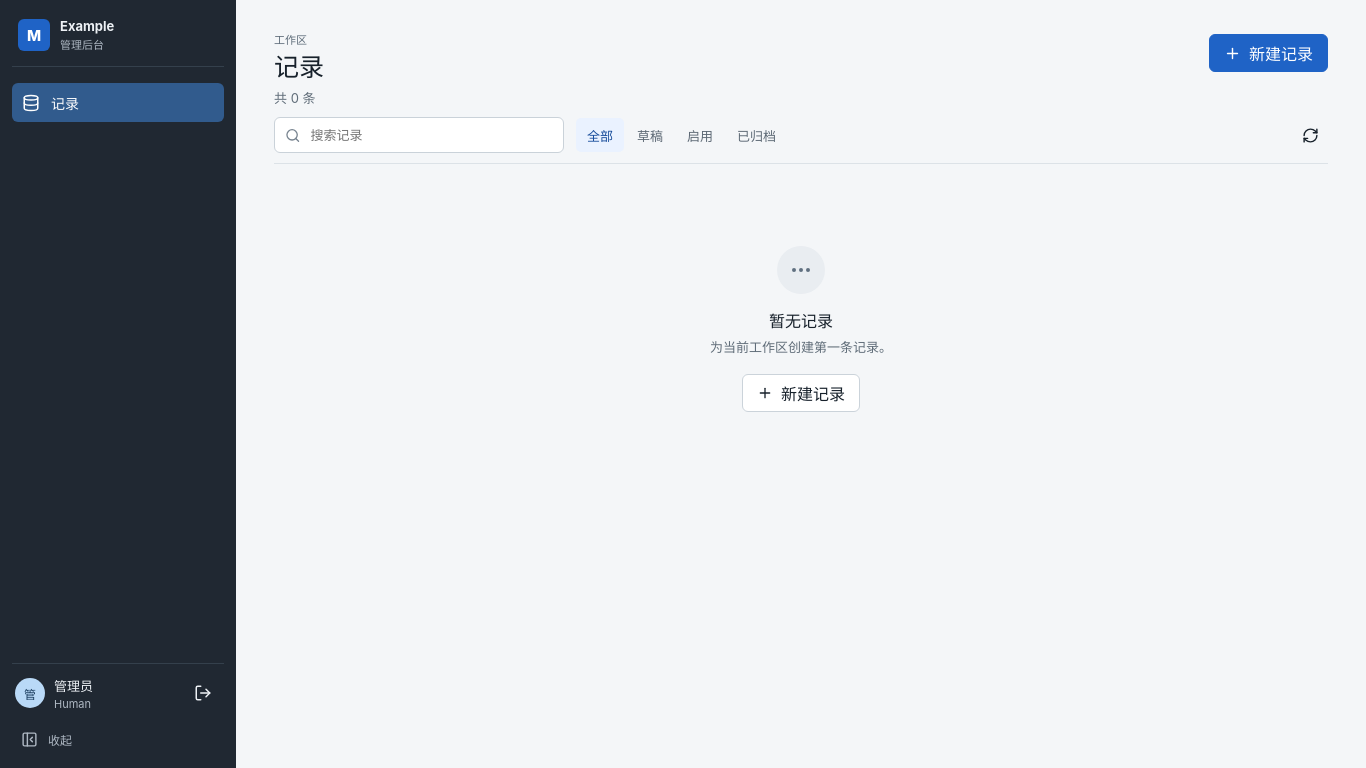
Test: Admin routes › keeps the authenticated workspace visible when server-side logout fails
The image size is (1366, 768).
Expected: the heading "记录" is shown, [274,52,324,84]
Click the button named "退出登录" at (203, 693), box [185,675,221,711]
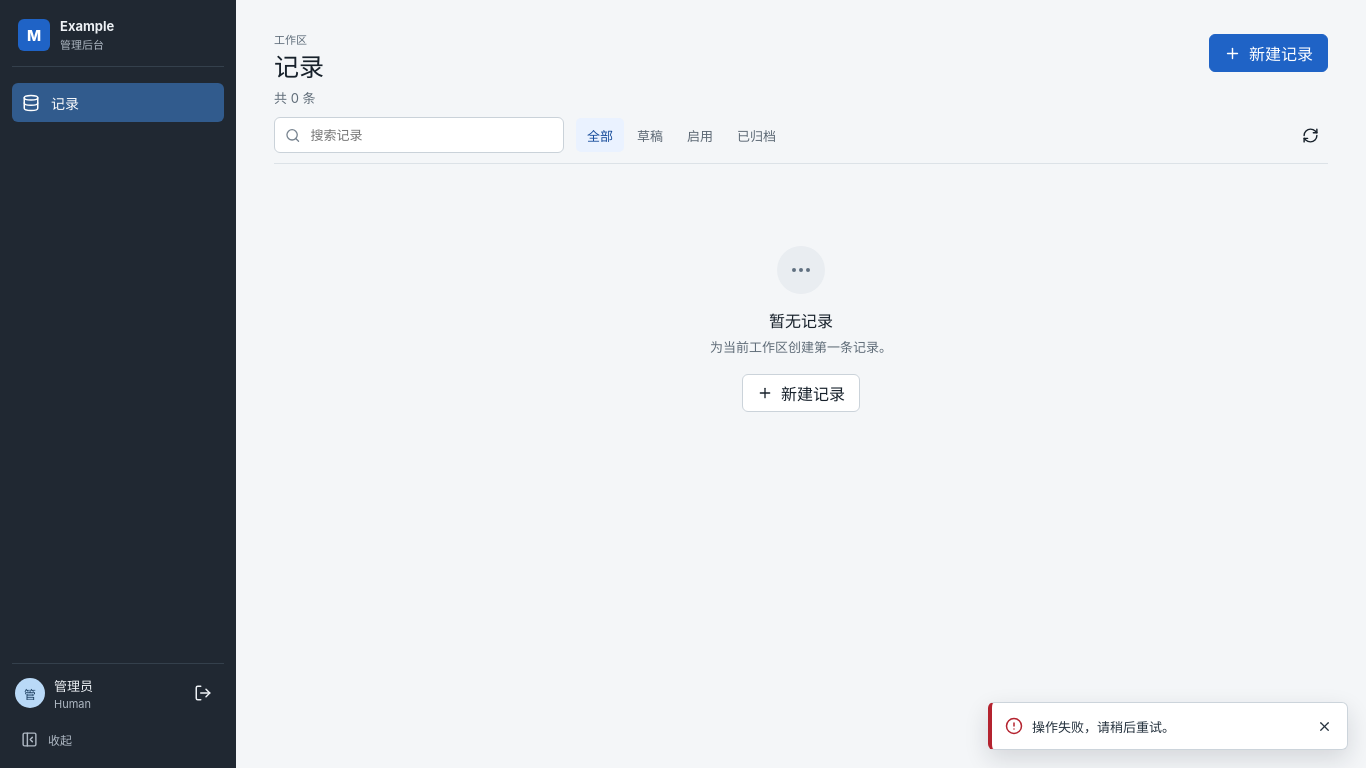
Expected: the heading "记录" is shown, [274,52,324,84]
Expected: the message reads "操作失败，请稍后重试。", [1032,718,1175,734]
